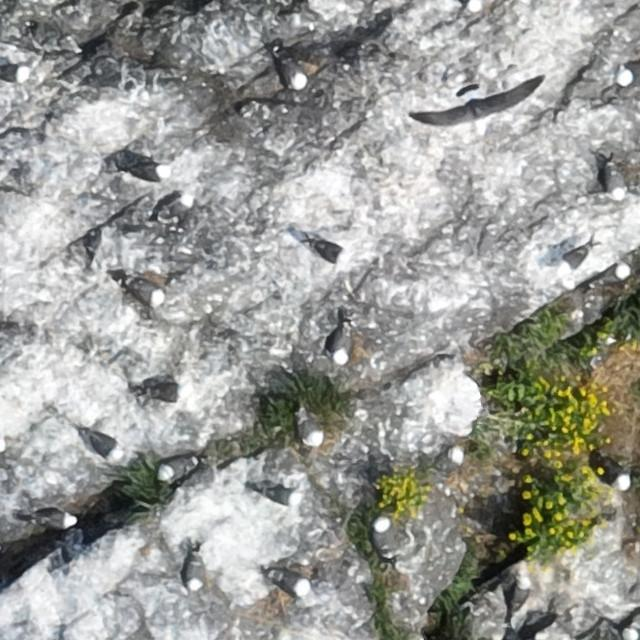F: (425, 73, 534, 136)
umineko: (122, 280, 161, 304), (280, 56, 308, 88), (272, 572, 310, 594), (86, 433, 118, 458), (123, 162, 166, 180), (605, 466, 631, 492), (146, 382, 183, 400), (260, 486, 296, 504), (311, 240, 343, 260), (332, 330, 351, 363), (160, 458, 191, 478), (372, 520, 390, 554), (595, 266, 629, 284), (300, 416, 321, 445), (161, 196, 190, 216), (562, 250, 588, 272), (186, 558, 203, 591), (607, 166, 625, 197), (39, 512, 71, 528), (0, 63, 28, 81), (617, 63, 640, 84), (512, 580, 528, 608), (443, 450, 463, 470), (465, 0, 489, 11)
